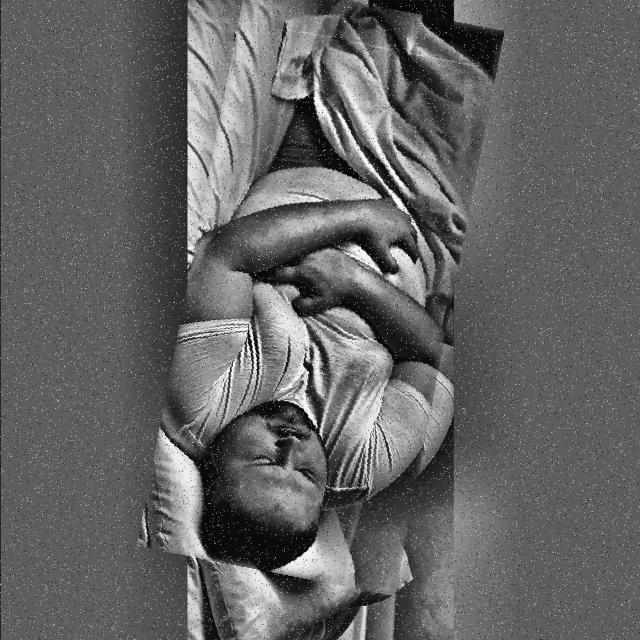Not_Supine: (161, 0, 493, 569), (376, 0, 454, 41)
